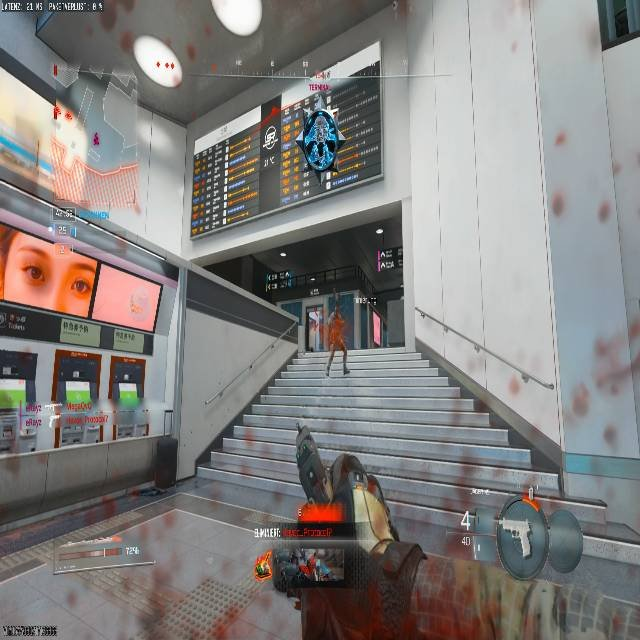player: (282, 93, 340, 190), (326, 314, 348, 371)
